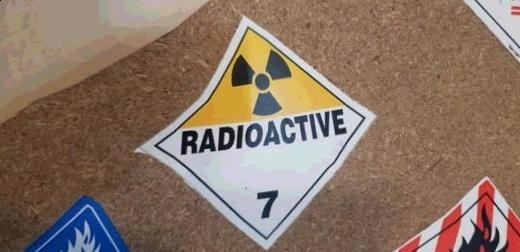flammable-solid: (396, 177, 520, 252)
radioactive: (141, 15, 364, 245)
